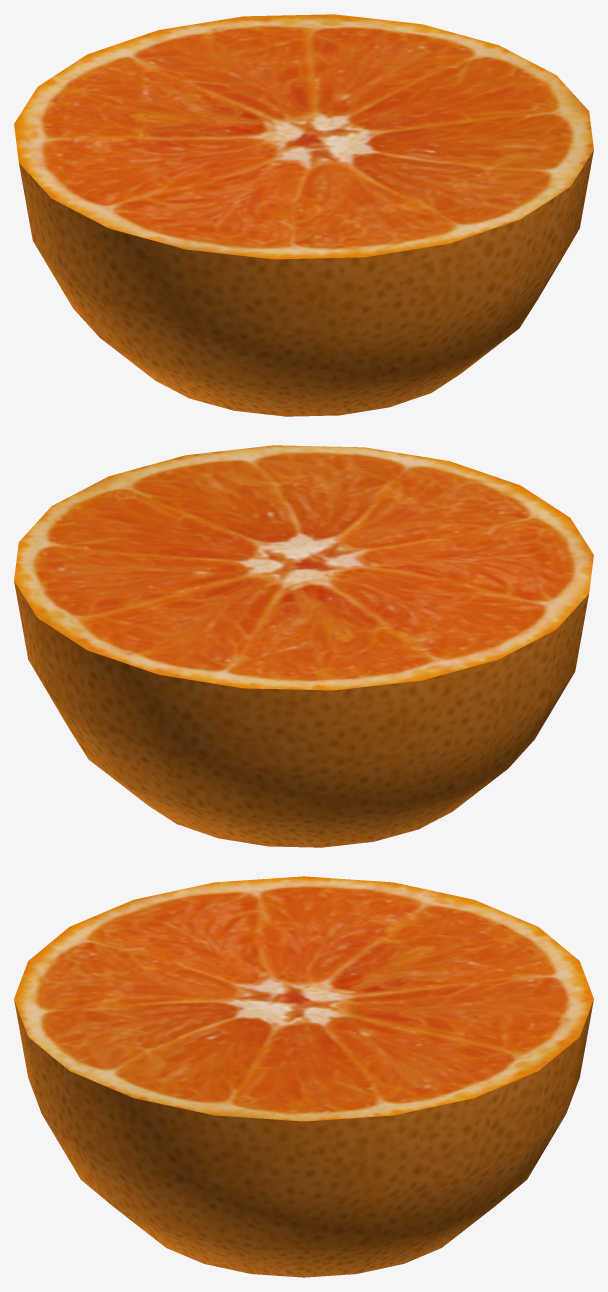
The model's file is orange_half.FBX.
3 renders of one model, top to bottom at view 1: azimuth 30°, elevation 25°; view 2: azimuth 150°, elevation 25°; view 3: azimuth 270°, elevation 25°, orthographic.
Visible parts, largest first — view 1: orange_cut; view 2: orange_cut; view 3: orange_cut.
Part boxes in pixels (left/top/right/bottom): orange_cut: left=14, top=14, right=593, bottom=416; orange_cut: left=14, top=445, right=593, bottom=847; orange_cut: left=14, top=876, right=593, bottom=1277.
Size of the model in its own units: 7.59 by 3.26 by 7.59.
1 material, 1 textured.
